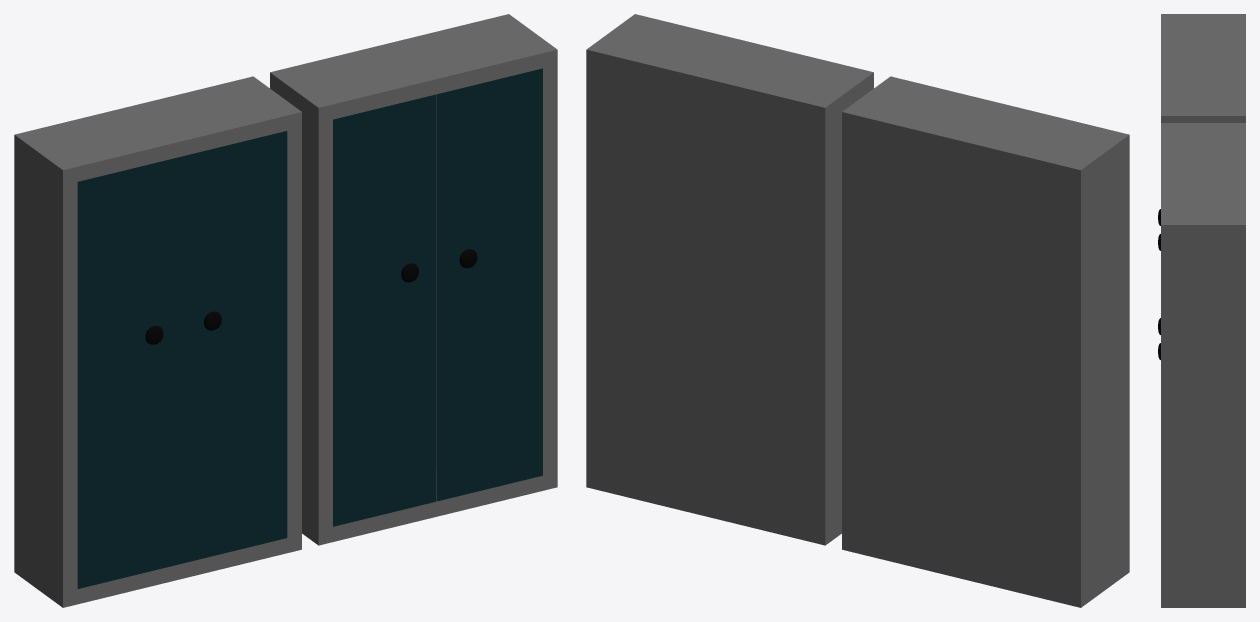
File: Armarios .fbx
3 views of the same model, side by side, from view 1: azimuth 30°, elevation 25°; view 2: azimuth 150°, elevation 25°; view 3: azimuth 270°, elevation 25° (orthographic). The views are drawn at different scales.
Parts seen in each view (by area): view 1: Cube.012, Cube.010; view 2: Cube.012, Cube.010; view 3: Cube.010, Cube.012.
Boxes of the visible parts, x1=… form: Cube.012: x1=14, y1=76, x2=301, y2=607; Cube.010: x1=270, y1=14, x2=557, y2=545; Cube.012: x1=842, y1=76, x2=1129, y2=607; Cube.010: x1=586, y1=14, x2=873, y2=545; Cube.010: x1=1158, y1=123, x2=1245, y2=607; Cube.012: x1=1158, y1=14, x2=1245, y2=250.
Bounding box in the file's own units: 2872 × 2429 × 505.
